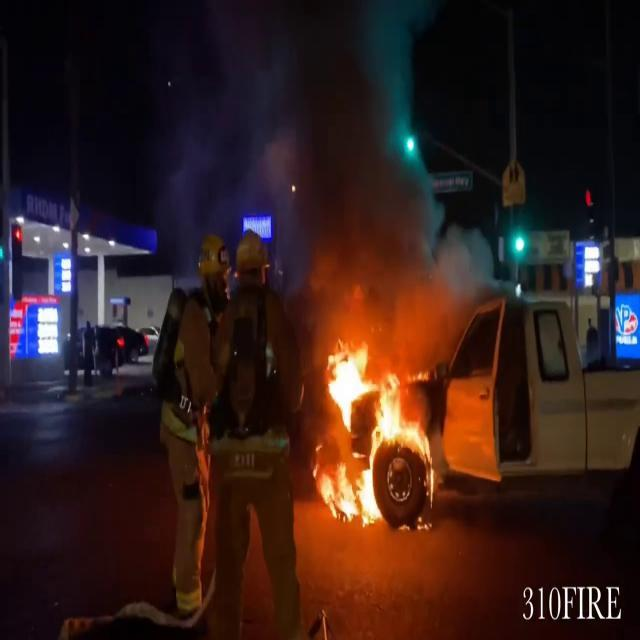Fire: (313, 332, 435, 526)
Smoke: (170, 1, 460, 342)
